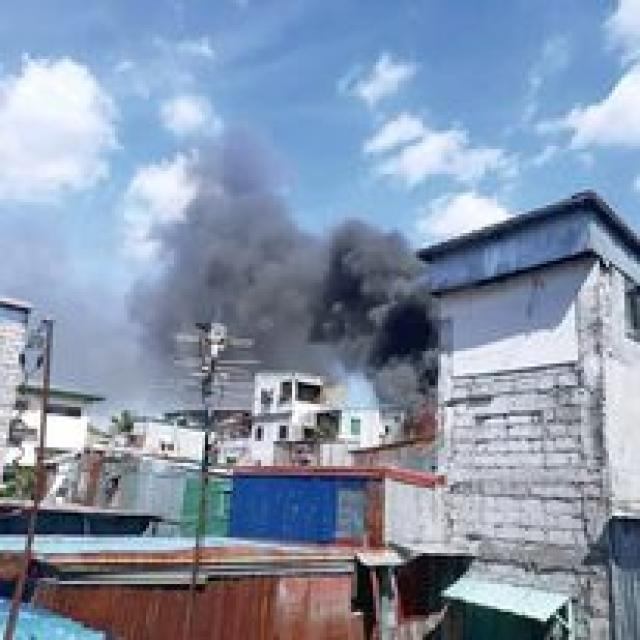Smoke: (179, 174, 404, 390)
